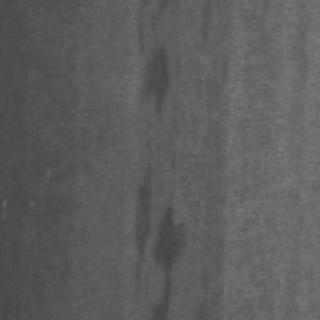inclusion: (130, 121, 184, 316), (125, 0, 171, 142)
